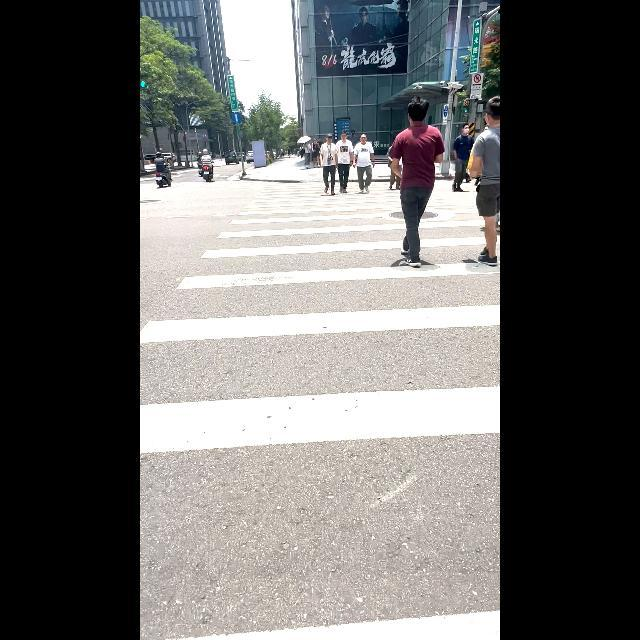sidewalk: (140, 179, 499, 640)
